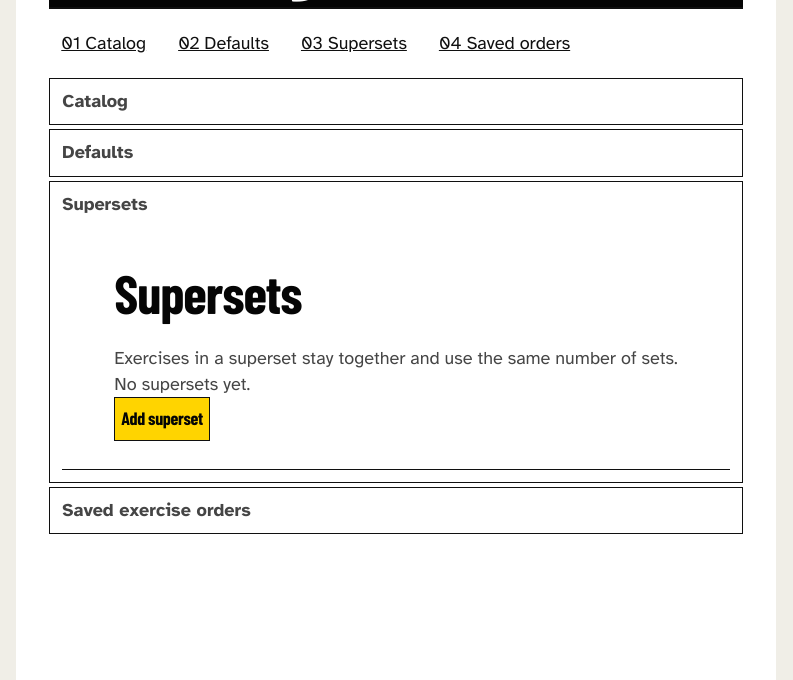
Test: Settings tracking configuration › does not describe an unselected member as inactive or invalid
This screenshot has width=793, height=680.
Click the button "Add superset": (162, 419) top-left (114, 397), bottom-right (210, 441)
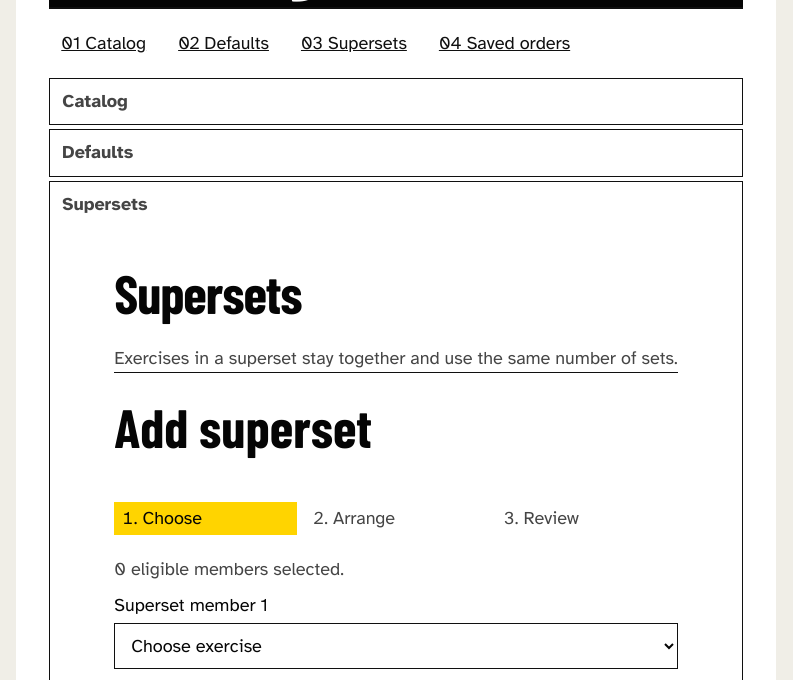
Select "Cable Row (3 sets)" in the dropdown labelled "Superset member 1": (396, 646) top-left (114, 623), bottom-right (678, 669)
(page scrolled)
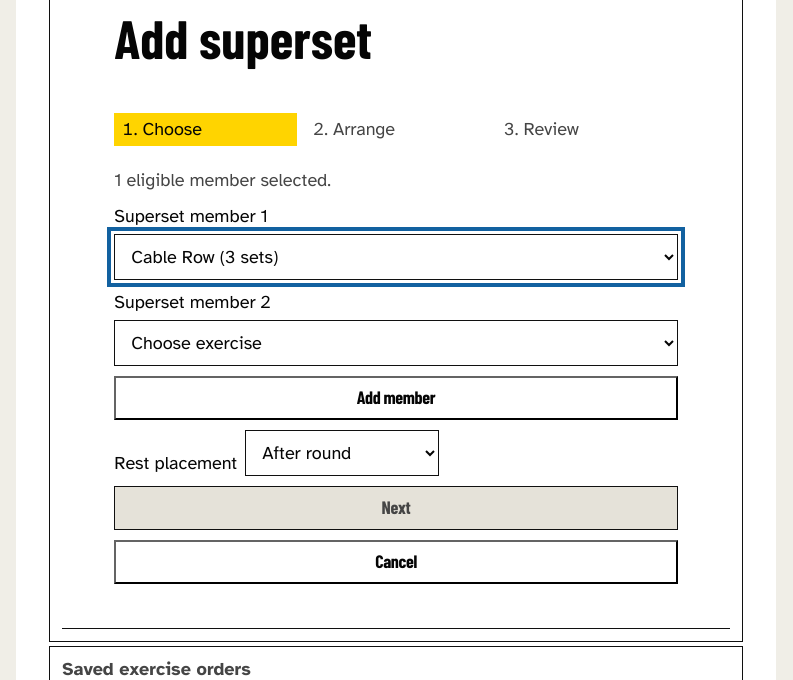
Expected: the button "Next" is disabled, top-left (114, 486), bottom-right (678, 530)
Expected: the text "1 eligible member selected." is shown, top-left (114, 169), bottom-right (331, 191)
